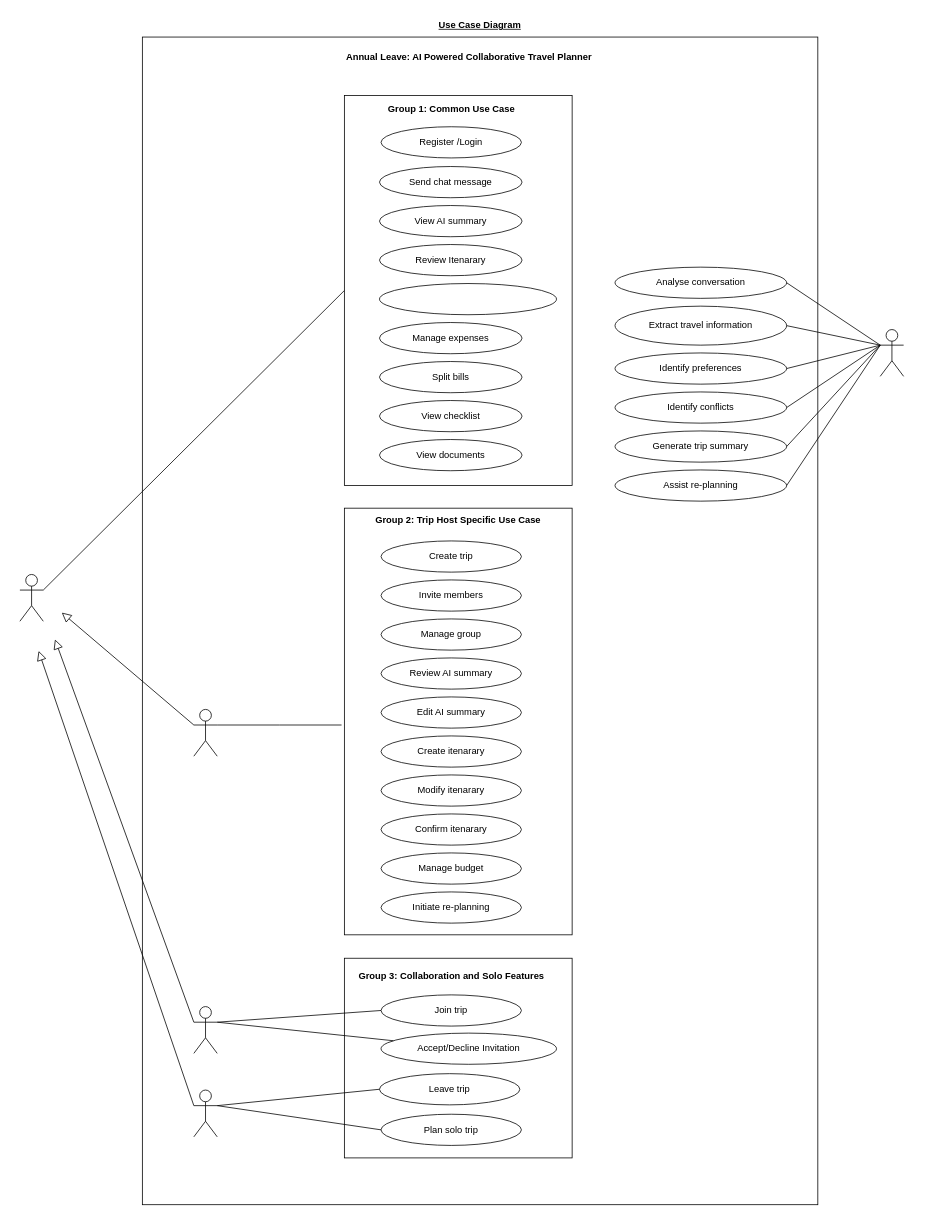
Some shapes in this 943 by 1218 pixel diagram are drawn without their labels. Each missing label, with the box of its shape:
AI Travel assistant: (879, 329, 904, 376)
Comment /Give feedback: (379, 283, 557, 315)
Invited user: (193, 1006, 217, 1053)
Solo traveller: (193, 1089, 217, 1137)
Traveller: (19, 574, 43, 621)
Trip host: (193, 709, 217, 756)
